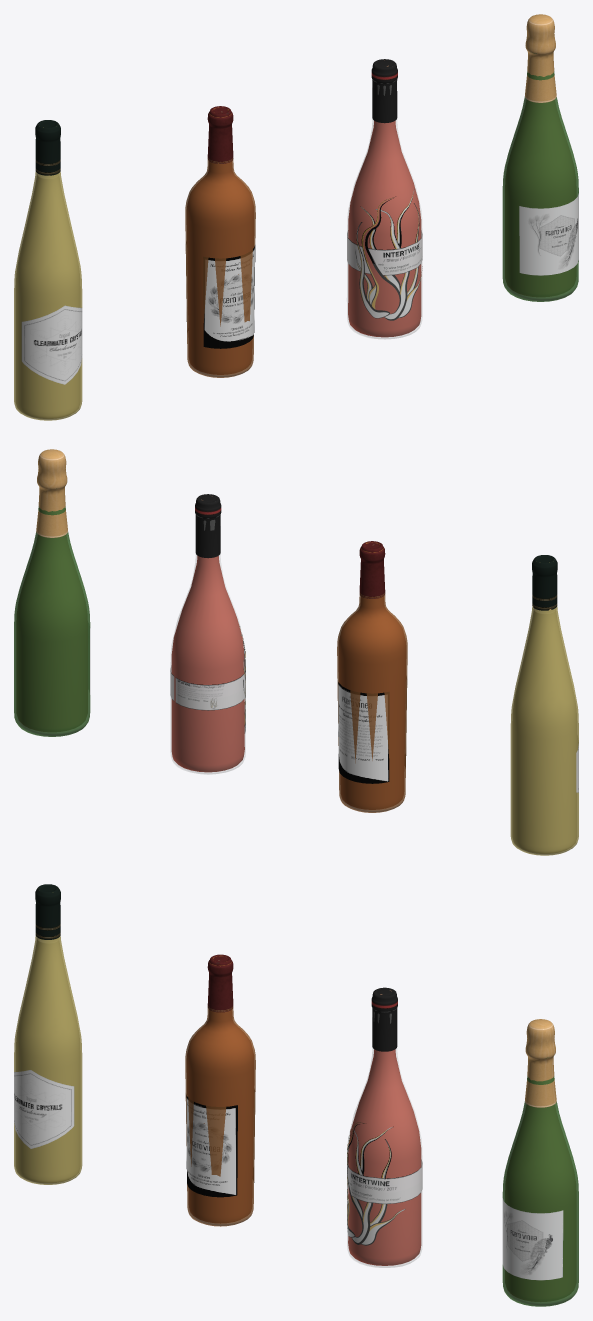
The model's file is wine_bottles_01.glb.
3 views of the same model, one above another, from view 1: azimuth 30°, elevation 25°; view 2: azimuth 150°, elevation 25°; view 3: azimuth 330°, elevation 25° (orthographic).
Visible parts, largest first — view 1: wine_bottles_01_champagne_mesh, wine_bottles_01_alsace_mesh, wine_bottles_01_burgundy_mesh, wine_bottles_01_bordeaux_mesh; view 2: wine_bottles_01_champagne_mesh, wine_bottles_01_alsace_mesh, wine_bottles_01_burgundy_mesh, wine_bottles_01_bordeaux_mesh; view 3: wine_bottles_01_champagne_mesh, wine_bottles_01_alsace_mesh, wine_bottles_01_burgundy_mesh, wine_bottles_01_bordeaux_mesh.
Boxes of the visible parts, x1,y1,x2,y2 form: wine_bottles_01_champagne_mesh: (502,14,578,301); wine_bottles_01_alsace_mesh: (14,120,82,420); wine_bottles_01_burgundy_mesh: (347,59,422,339); wine_bottles_01_bordeaux_mesh: (185,106,255,377); wine_bottles_01_champagne_mesh: (14,449,90,736); wine_bottles_01_alsace_mesh: (510,555,578,855); wine_bottles_01_burgundy_mesh: (170,494,245,774); wine_bottles_01_bordeaux_mesh: (337,541,407,812); wine_bottles_01_champagne_mesh: (502,1019,578,1306); wine_bottles_01_alsace_mesh: (14,884,82,1184); wine_bottles_01_burgundy_mesh: (347,987,422,1267); wine_bottles_01_bordeaux_mesh: (185,954,255,1226).
Size of the model in its own units: 0.6763 by 0.3314 by 0.0805.
Materials: 12 (9 with a texture image).
